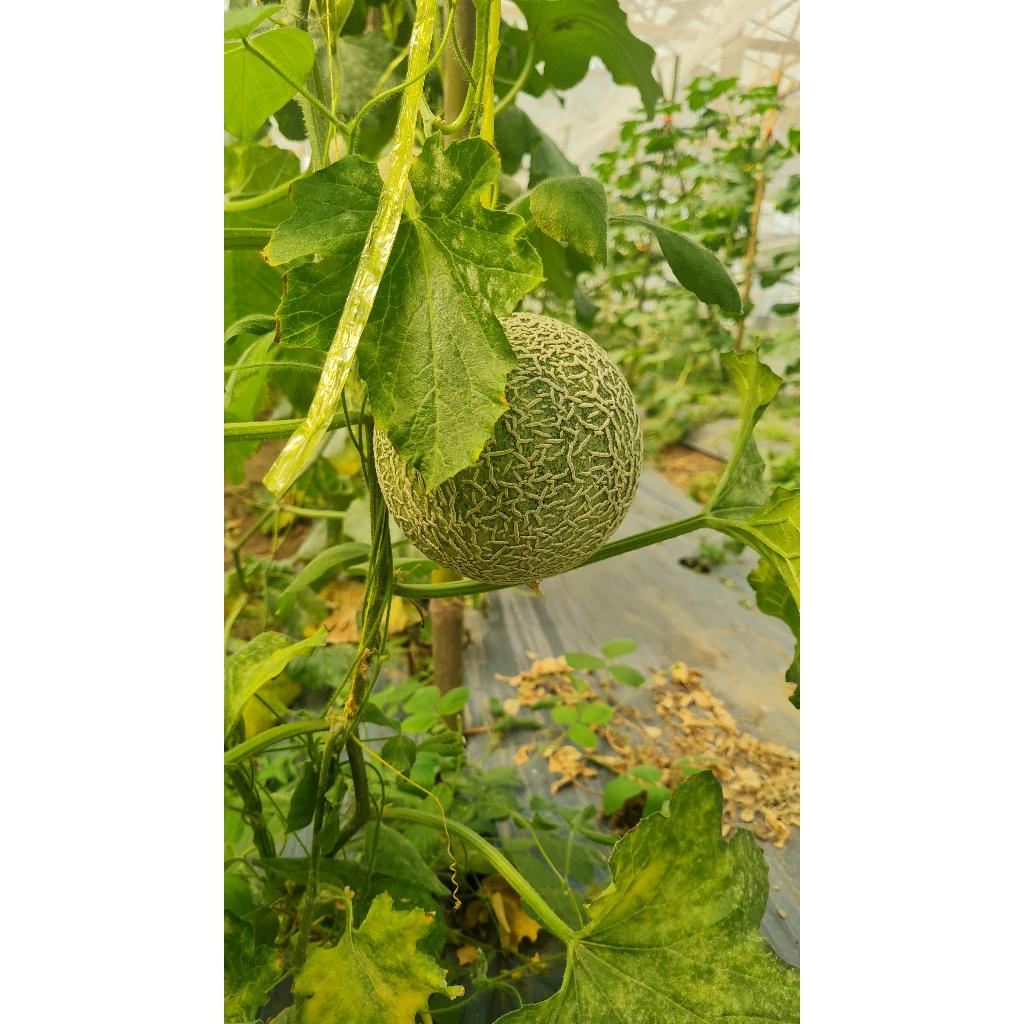melon: (374, 314, 642, 584)
